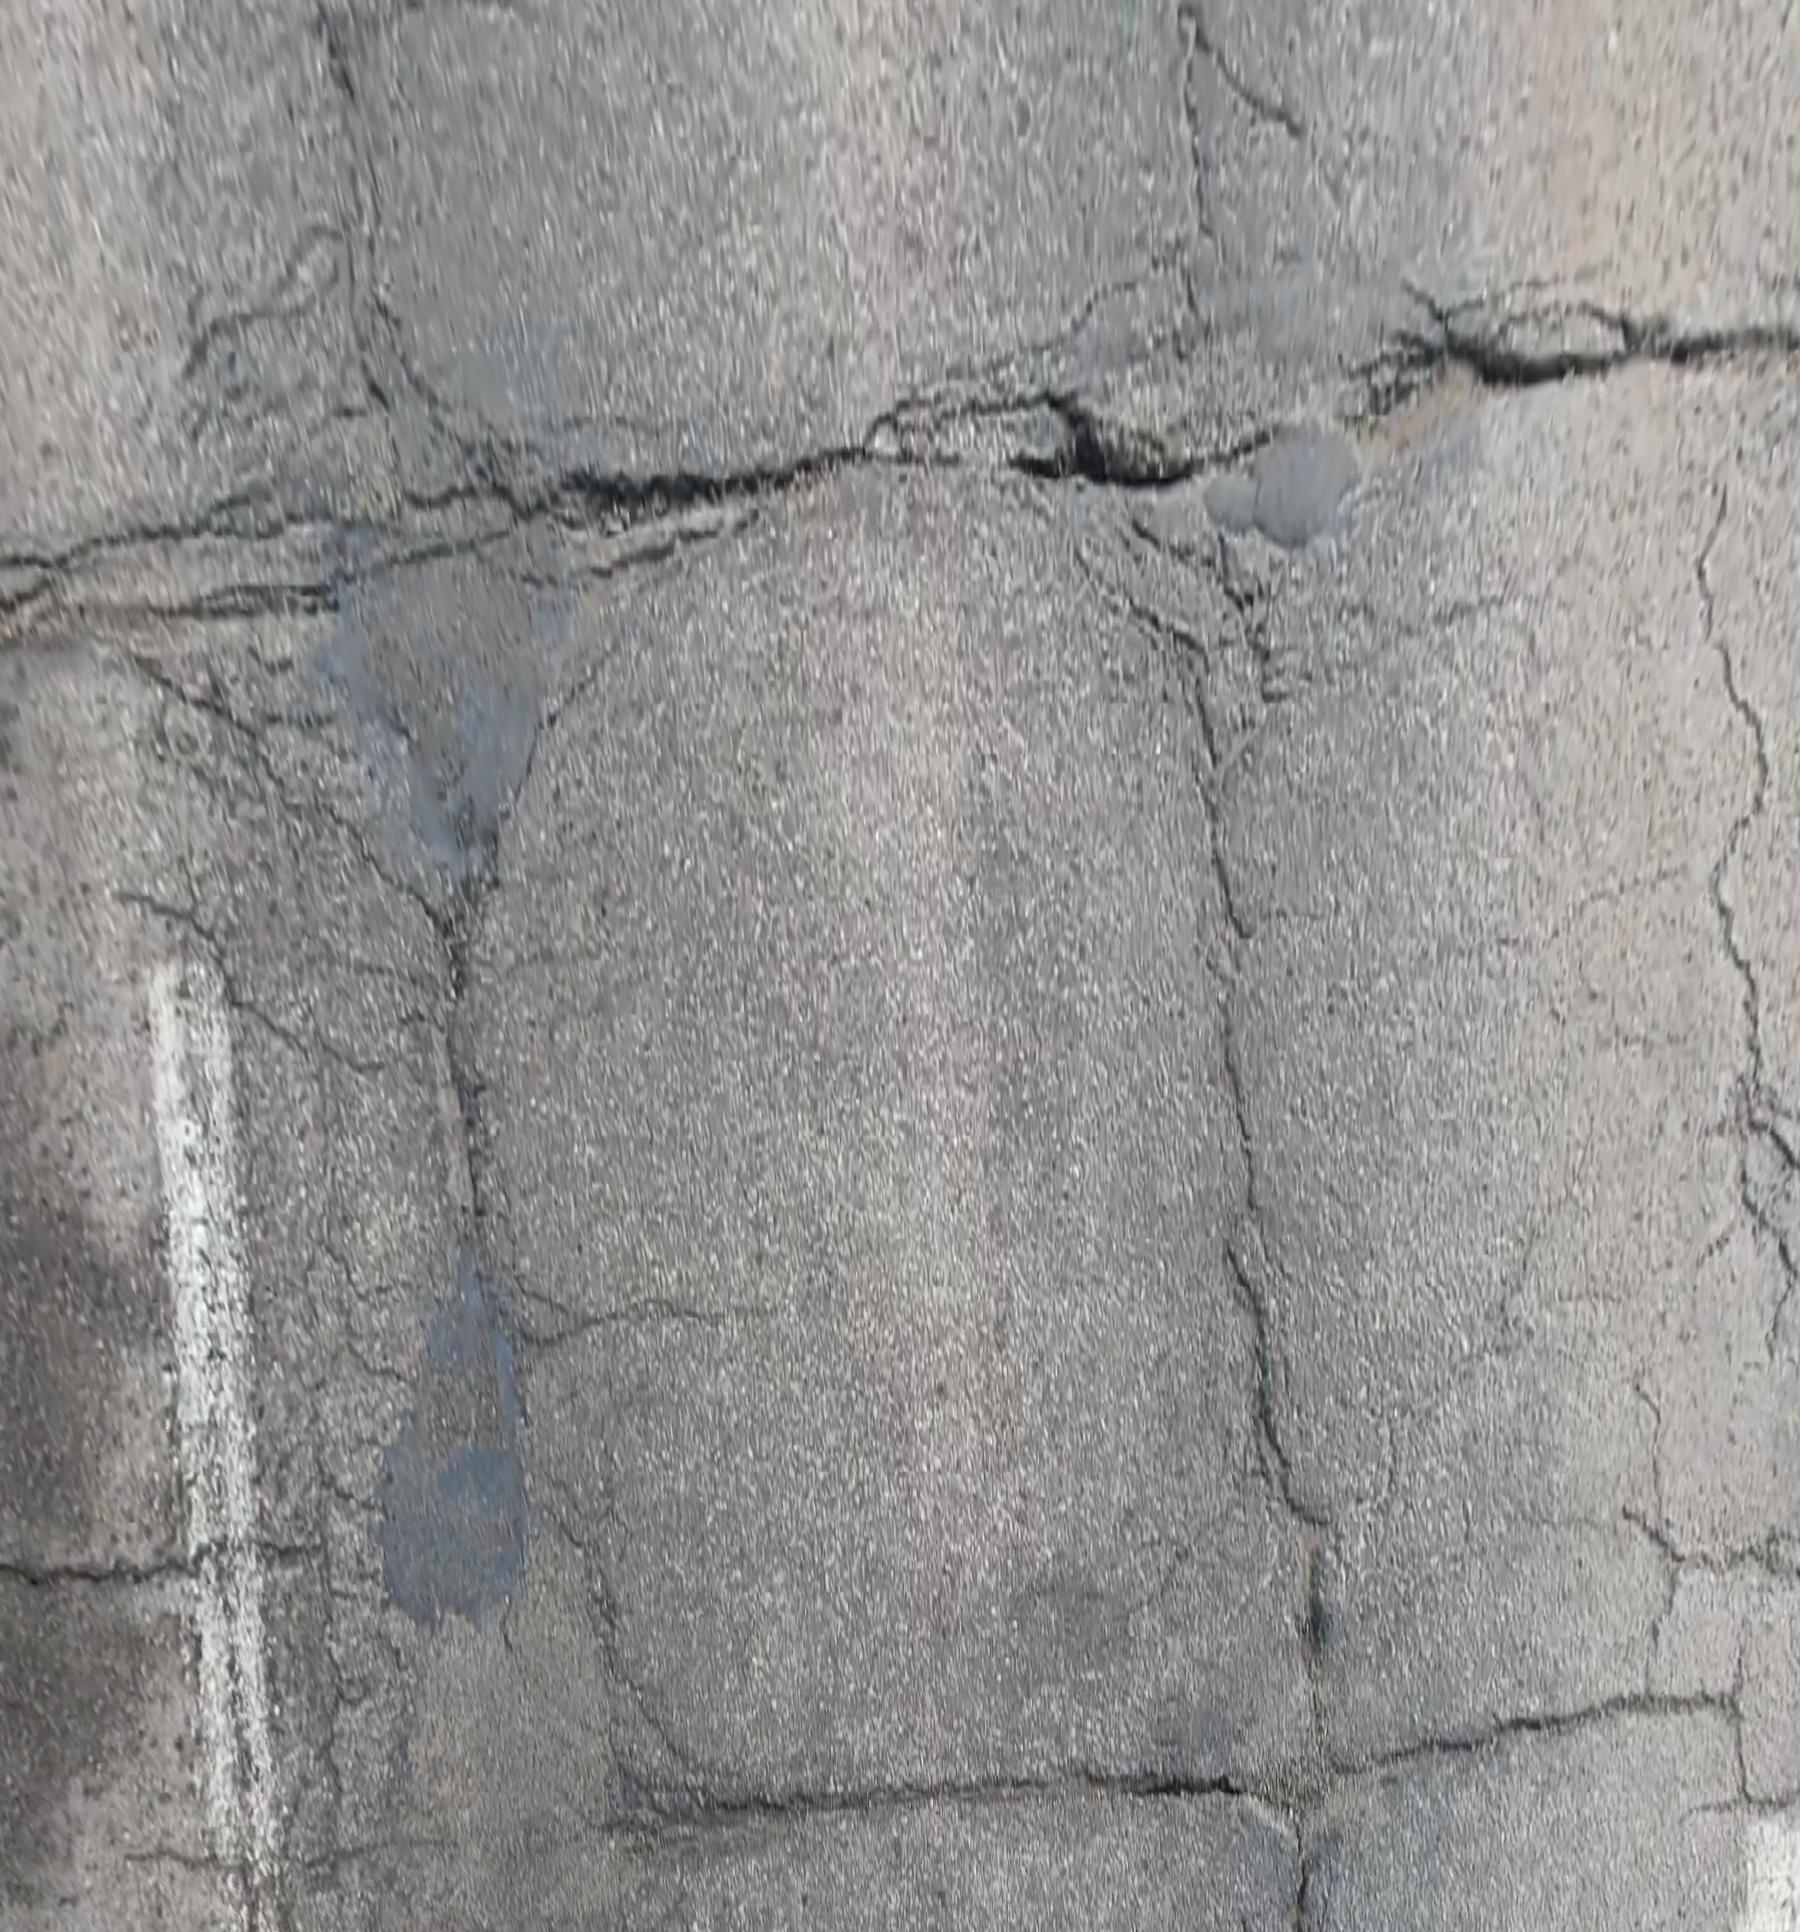pothole: (1345, 311, 1612, 455), (526, 462, 760, 538), (1020, 420, 1169, 491)
pothole_patch_good: (370, 1243, 526, 1634)
pothole_patch_poor: (299, 311, 575, 924)
